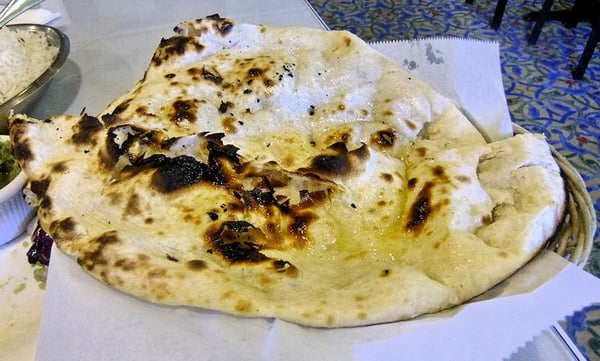sushi: (0, 20, 72, 136)
